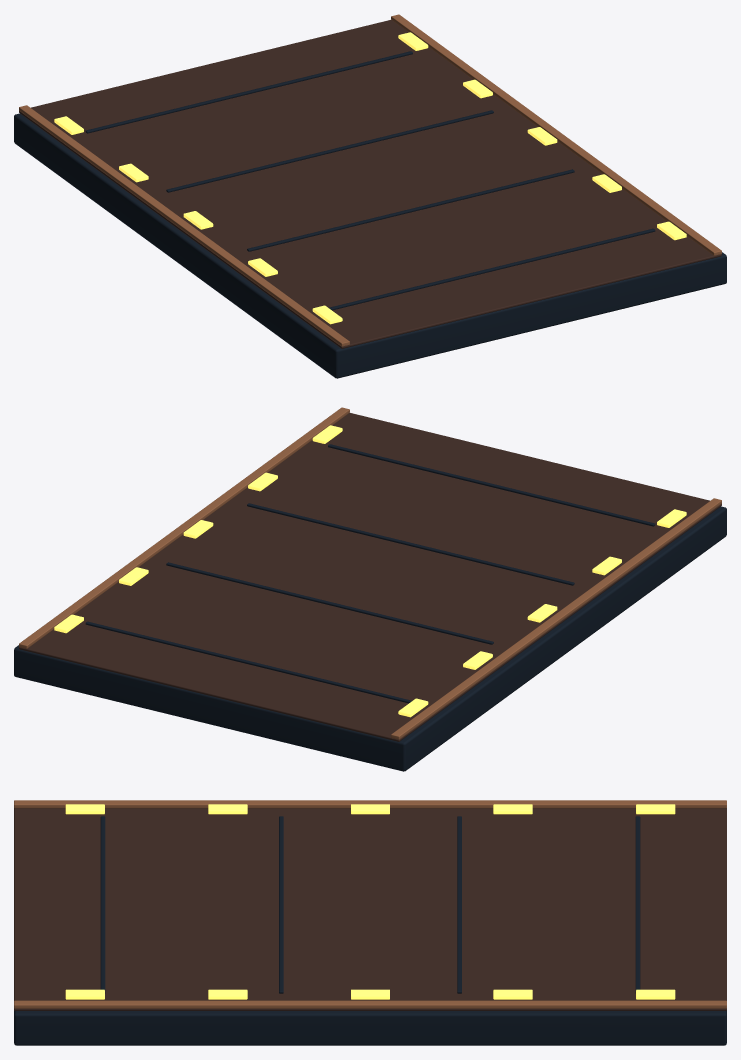
File: foundry_road_straight.fbx
3 renders of one model, top to bottom at view 1: azimuth 30°, elevation 25°; view 2: azimuth 150°, elevation 25°; view 3: azimuth 270°, elevation 25°, orthographic. The views are drawn at different scales.
Parts seen in each view (by area): view 1: foundry_road_straight_Geometry; view 2: foundry_road_straight_Geometry; view 3: foundry_road_straight_Geometry.
Part boxes in pixels (box(x1,y1,x2,y2)): foundry_road_straight_Geometry: box(14, 14, 726, 378); foundry_road_straight_Geometry: box(14, 407, 726, 771); foundry_road_straight_Geometry: box(14, 800, 726, 1045).
Size of the model in its own units: 2.8 by 0.2555 by 4.
